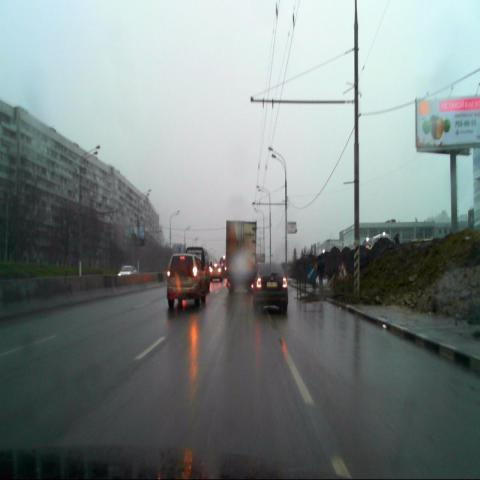1_25: (336, 260, 348, 282)
4_2_2: (306, 264, 316, 281)
